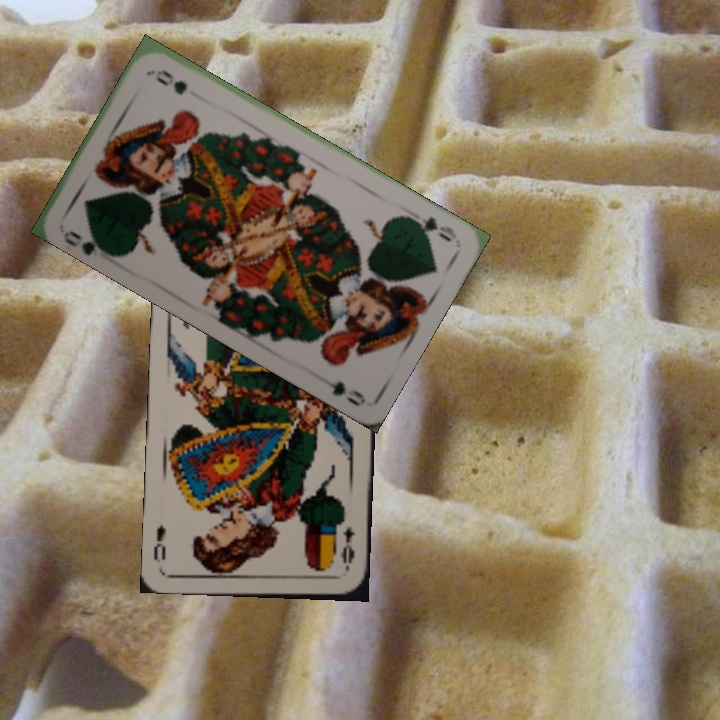EO: (337, 522, 358, 574)
GO: (402, 212, 459, 245), (59, 225, 114, 258)
